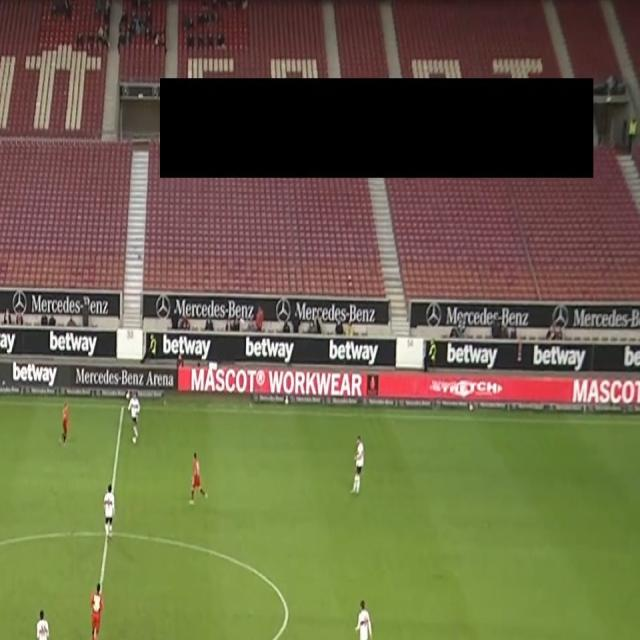ball: (131, 434, 137, 446)
